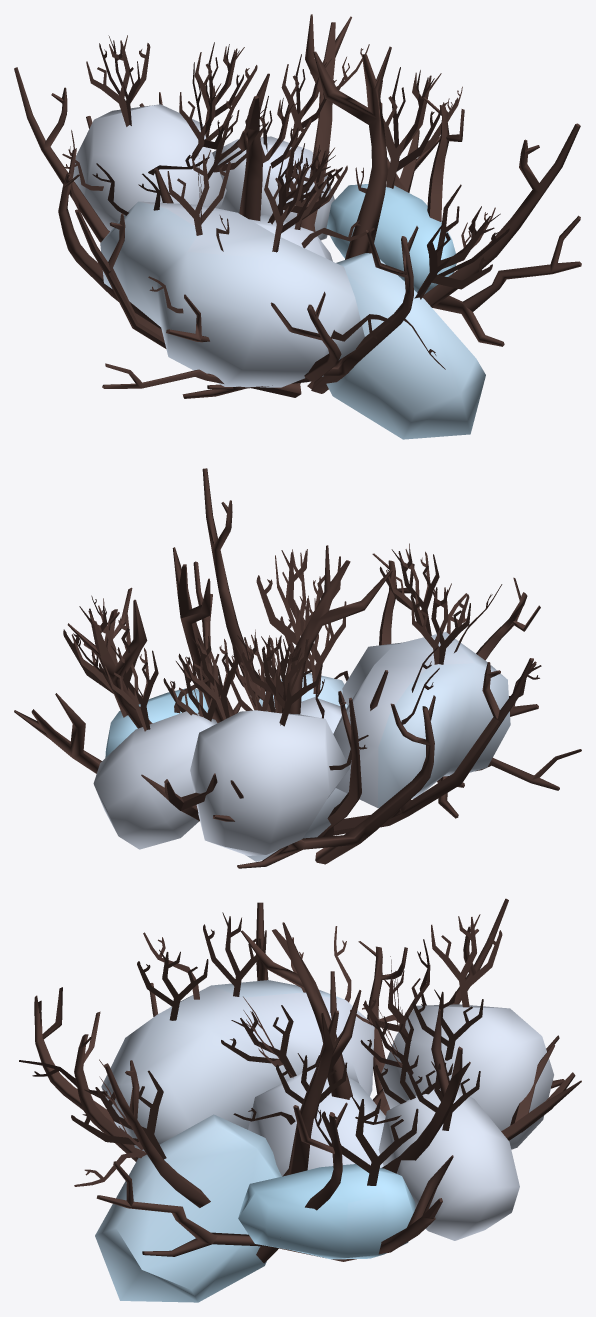
Rendered from Buisson3.fbx.
The picture shows the model from 3 angles, top to bottom: view 1: azimuth 30°, elevation 25°; view 2: azimuth 150°, elevation 25°; view 3: azimuth 270°, elevation 25°; orthographic projection. The views are drawn at different scales.
Parts seen in each view (by area): view 1: BuissonhighPOlyplusplus; view 2: BuissonhighPOlyplusplus; view 3: BuissonhighPOlyplusplus.
Boxes of the visible parts, left/top/right/bottom form: BuissonhighPOlyplusplus: left=14, top=14, right=581, bottom=439; BuissonhighPOlyplusplus: left=14, top=468, right=581, bottom=868; BuissonhighPOlyplusplus: left=19, top=898, right=581, bottom=1302.
Size of the model in its own units: 393 by 263 by 420.
